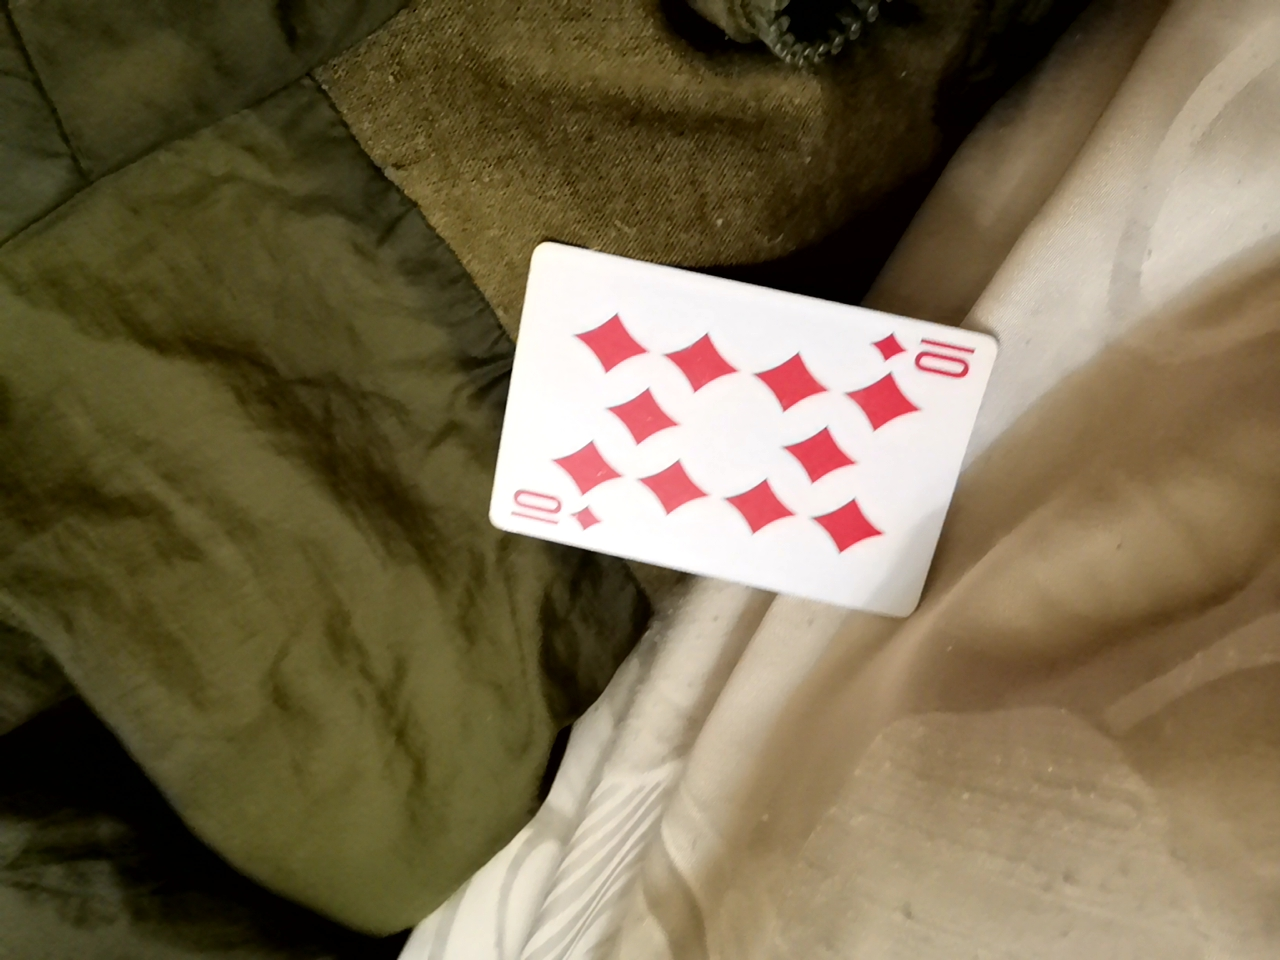fk 10: (459, 239, 996, 581)
